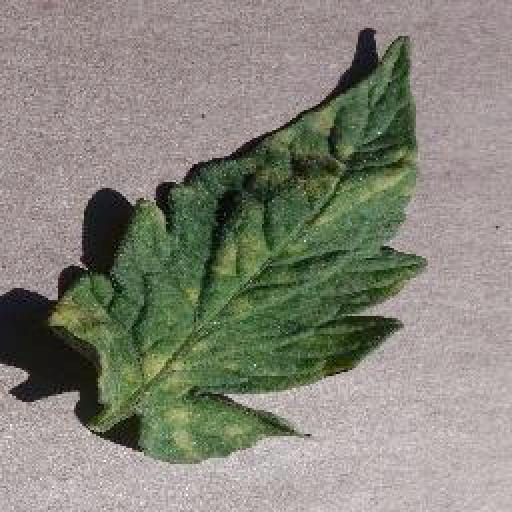disease_tomato: (48, 34, 426, 468)
